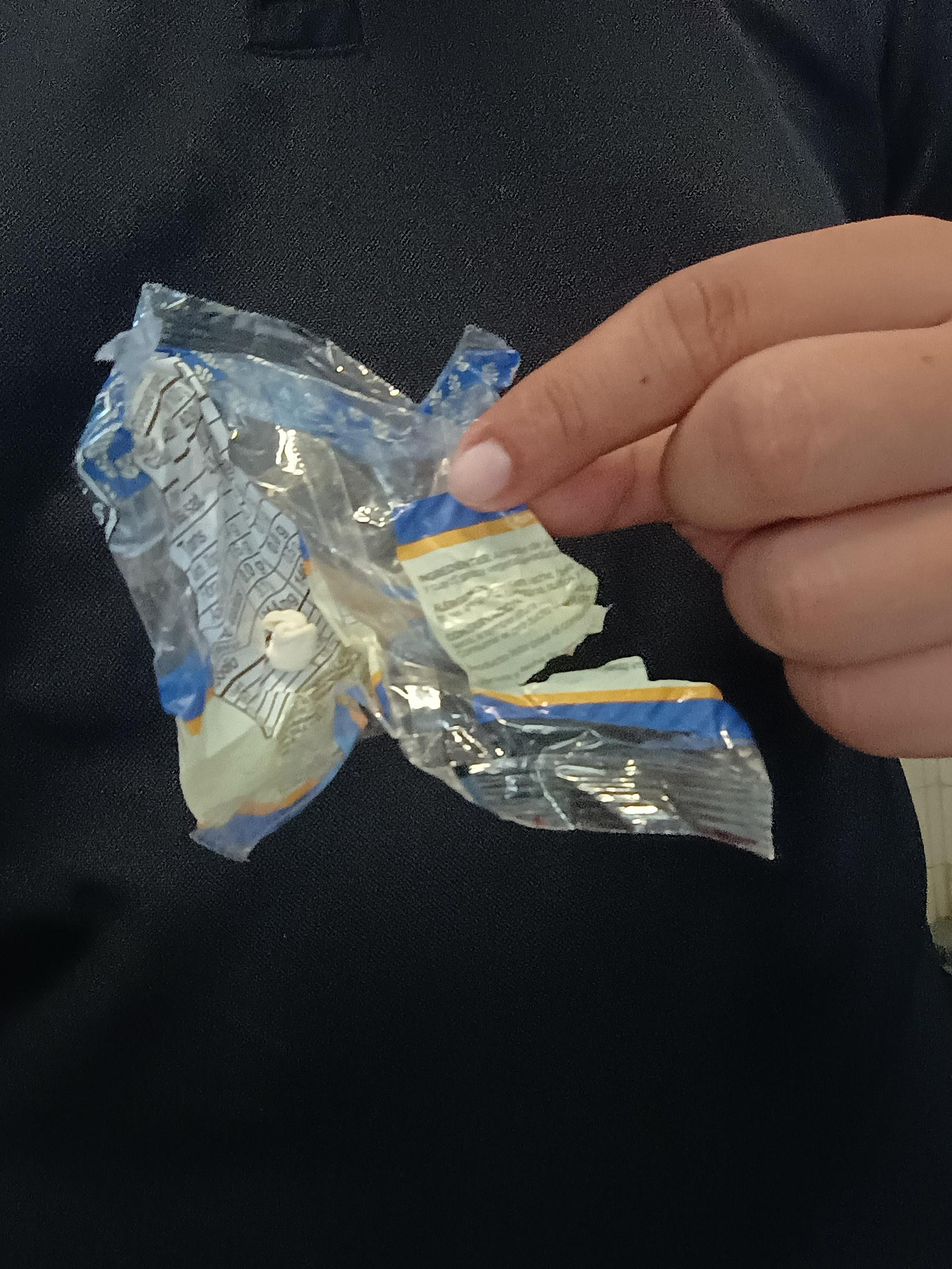Ordinario: (71, 281, 775, 865)
